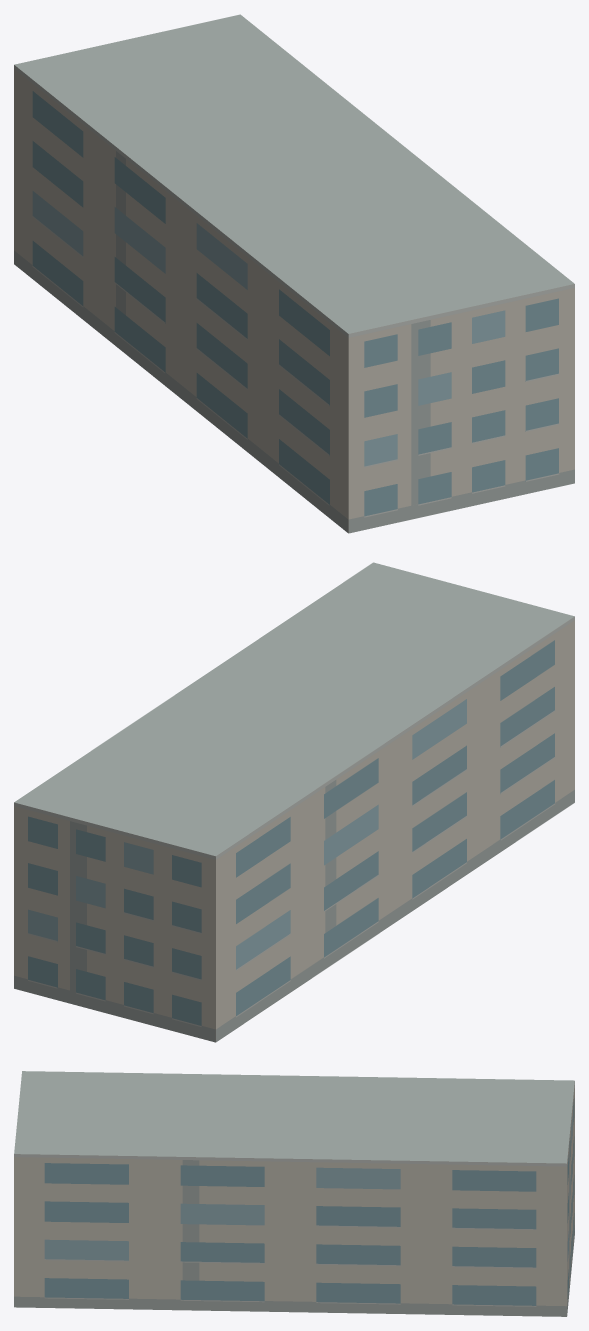
The model's file is residential-81dfd8cb-edc7-45d0-a7e5-4813c3ed040b.glb.
3 renders of one model, top to bottom at view 1: azimuth 30°, elevation 25°; view 2: azimuth 150°, elevation 25°; view 3: azimuth 270°, elevation 25°, orthographic. The views are drawn at different scales.
Parts seen in each view (by area): view 1: residential-81dfd8cb-edc7-45d0-a7e5-4813c3ed040b.tmp; view 2: residential-81dfd8cb-edc7-45d0-a7e5-4813c3ed040b.tmp; view 3: residential-81dfd8cb-edc7-45d0-a7e5-4813c3ed040b.tmp.
Boxes of the visible parts, left/top/right/bottom form: residential-81dfd8cb-edc7-45d0-a7e5-4813c3ed040b.tmp: left=14, top=14, right=574, bottom=533; residential-81dfd8cb-edc7-45d0-a7e5-4813c3ed040b.tmp: left=14, top=562, right=574, bottom=1042; residential-81dfd8cb-edc7-45d0-a7e5-4813c3ed040b.tmp: left=14, top=1071, right=574, bottom=1316.
Size of the model in its own units: 15.78 by 12.2 by 40.44.
